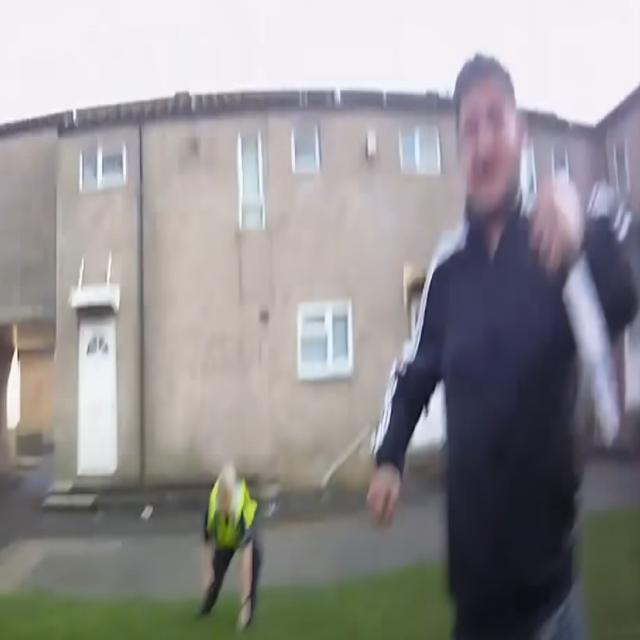Knife_Handle: (528, 171, 622, 448)
